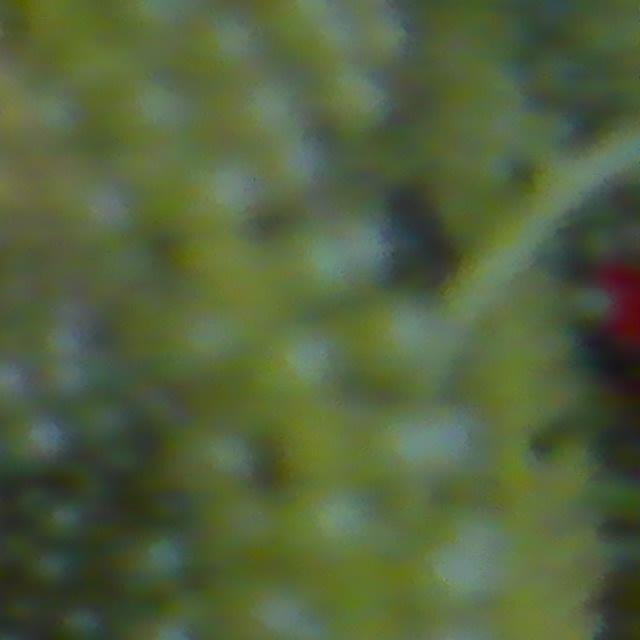SeaGrape: (352, 291, 459, 393), (281, 477, 389, 574), (371, 394, 474, 494), (405, 517, 504, 617), (113, 61, 203, 142), (269, 218, 349, 307), (214, 572, 314, 640), (246, 323, 332, 399), (57, 170, 139, 248), (170, 427, 265, 494), (106, 526, 187, 602), (189, 147, 260, 233), (177, 8, 256, 85), (227, 70, 304, 148), (316, 66, 386, 139), (253, 129, 324, 199), (213, 504, 289, 556), (263, 0, 330, 50), (10, 414, 66, 471), (27, 547, 66, 590), (45, 503, 81, 546), (57, 608, 100, 640)
